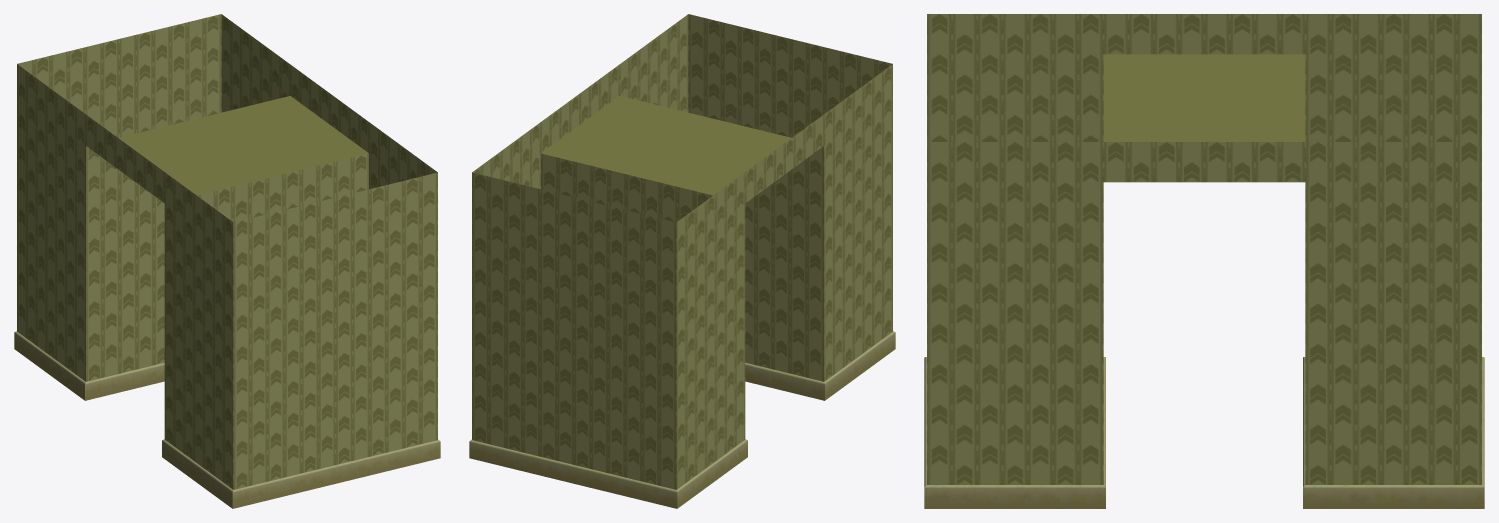
Rendered from WallLeftFatWithHole.fbx.
3 renders of one model, left to right at view 1: azimuth 30°, elevation 25°; view 2: azimuth 150°, elevation 25°; view 3: azimuth 270°, elevation 25°, orthographic. The views are drawn at different scales.
Parts seen in each view (by area): view 1: WallLeftFatWithHole; view 2: WallLeftFatWithHole; view 3: WallLeftFatWithHole.
Boxes of the visible parts, x1,y1,x2,y2 form: WallLeftFatWithHole: (14, 14, 440, 508); WallLeftFatWithHole: (469, 14, 895, 508); WallLeftFatWithHole: (924, 14, 1484, 508).
Bounding box in the file's own units: 305 × 400 × 555.
